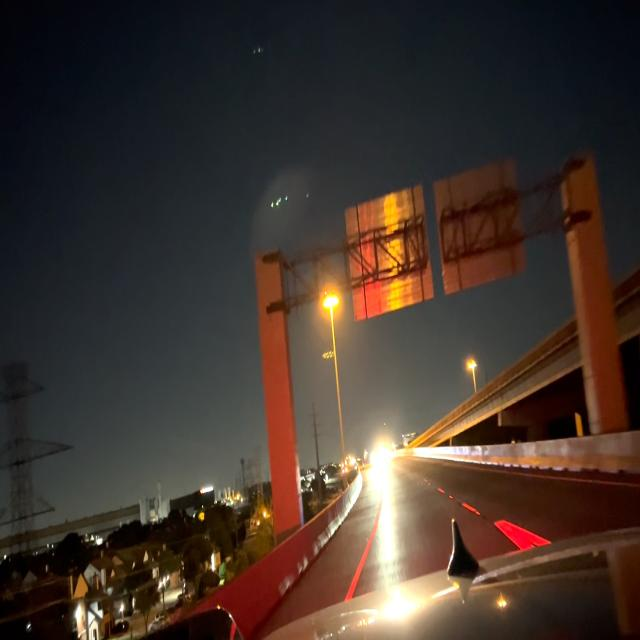back-of-sign: (434, 161, 525, 319), (347, 181, 434, 321)
